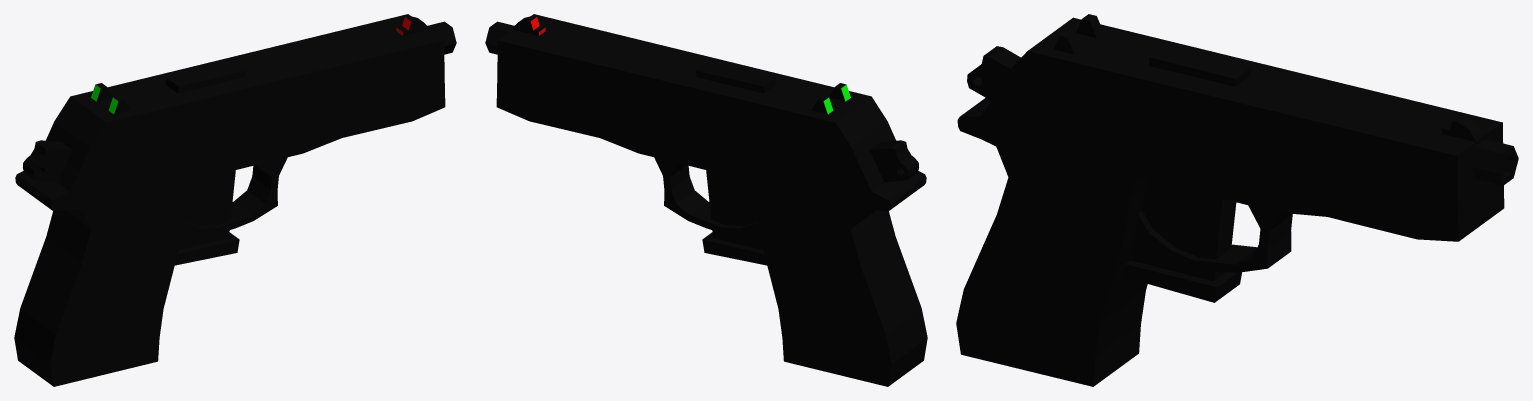
3 views of the same model, side by side, from view 1: azimuth 30°, elevation 25°; view 2: azimuth 150°, elevation 25°; view 3: azimuth 330°, elevation 25° (orthographic). The views are drawn at different scales.
Visible parts, largest first — view 1: M9, M9(Mag); view 2: M9, M9(Mag); view 3: M9, M9(Mag).
Boxes of the visible parts, x1,y1,x2,y2 form: M9: [14, 14, 456, 386]; M9(Mag): [165, 62, 245, 265]; M9: [485, 14, 927, 386]; M9(Mag): [696, 62, 776, 265]; M9: [956, 14, 1518, 386]; M9(Mag): [1122, 46, 1250, 302].
Size of the model in its own units: 483 by 290 by 71.57.
